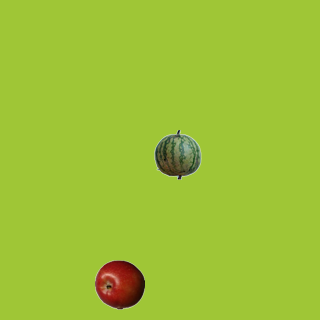Apple Braeburn: (94, 259, 144, 309)
Watermelon: (152, 129, 202, 179)
